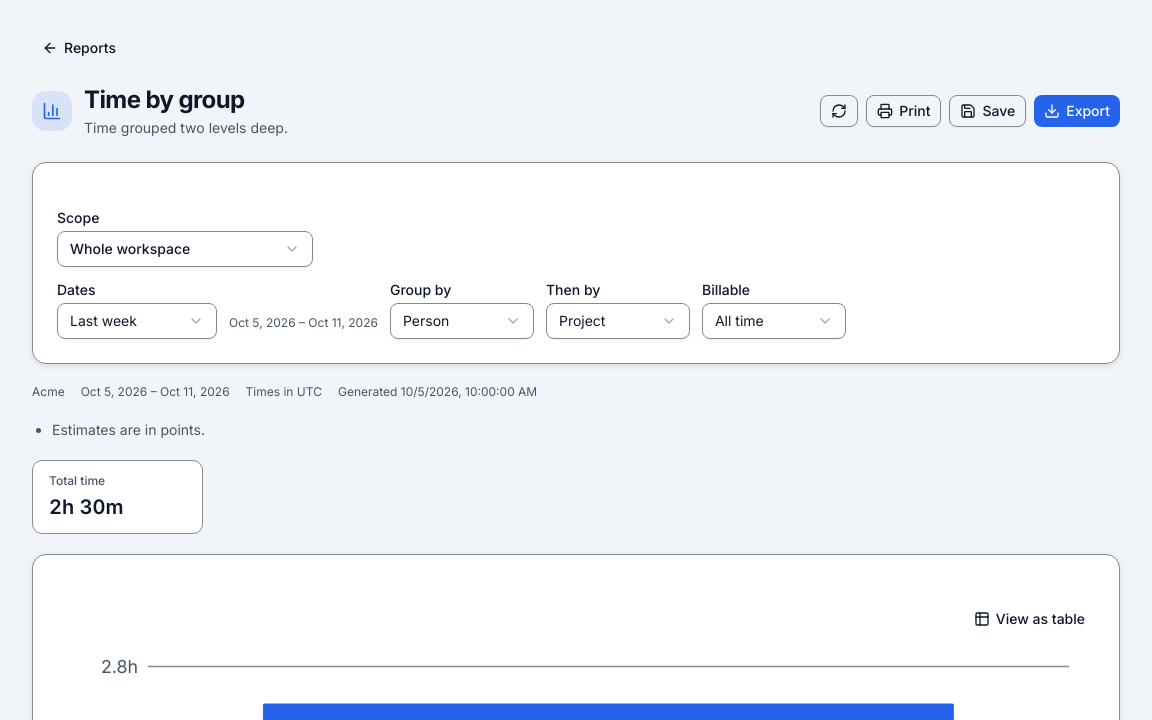
<ReportPage> › saves the report with its parameters, and then offers to schedule it
Click the button "Save": [988, 111] box left=949, top=95, right=1026, bottom=127
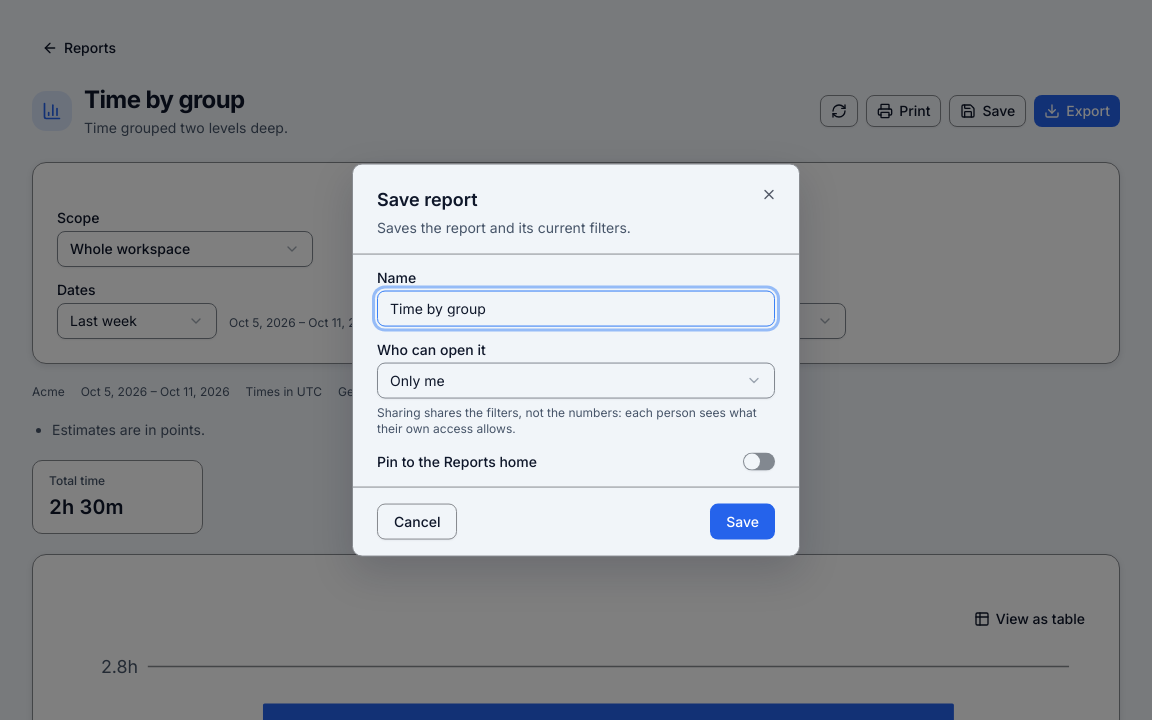
Replace the text in the field labelled "Name" with "Weekly hours": [576, 308] box left=377, top=290, right=775, bottom=326
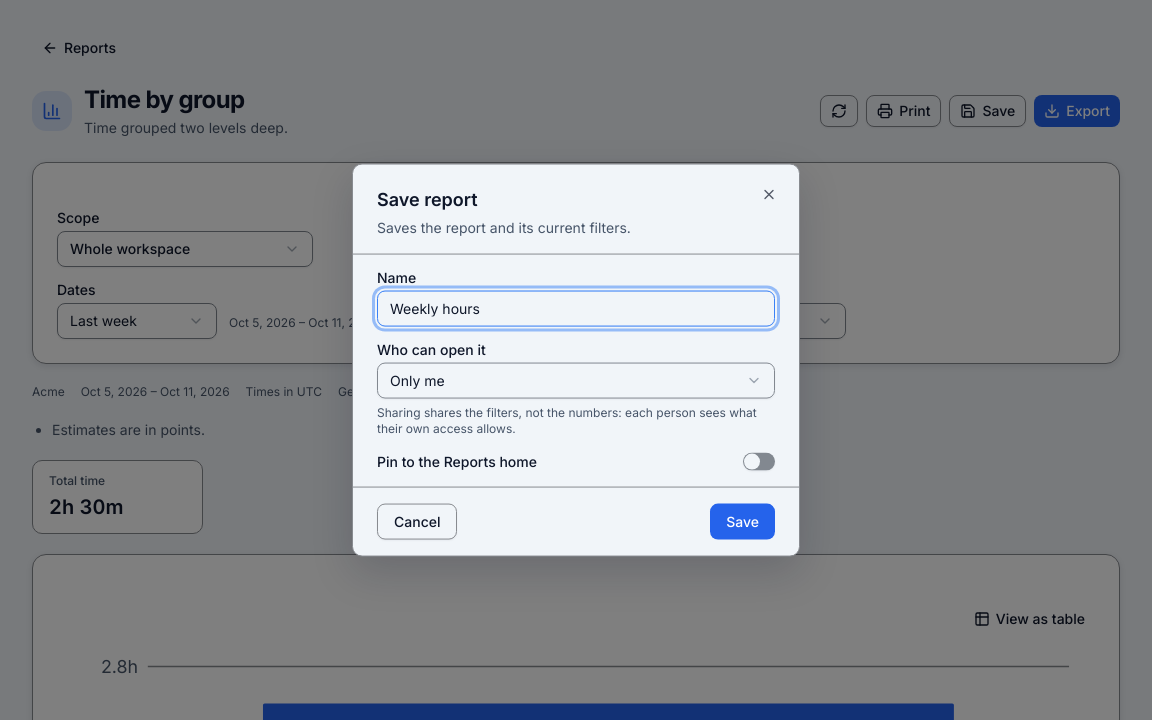
Click the button "Save": [743, 521] box left=710, top=503, right=775, bottom=539
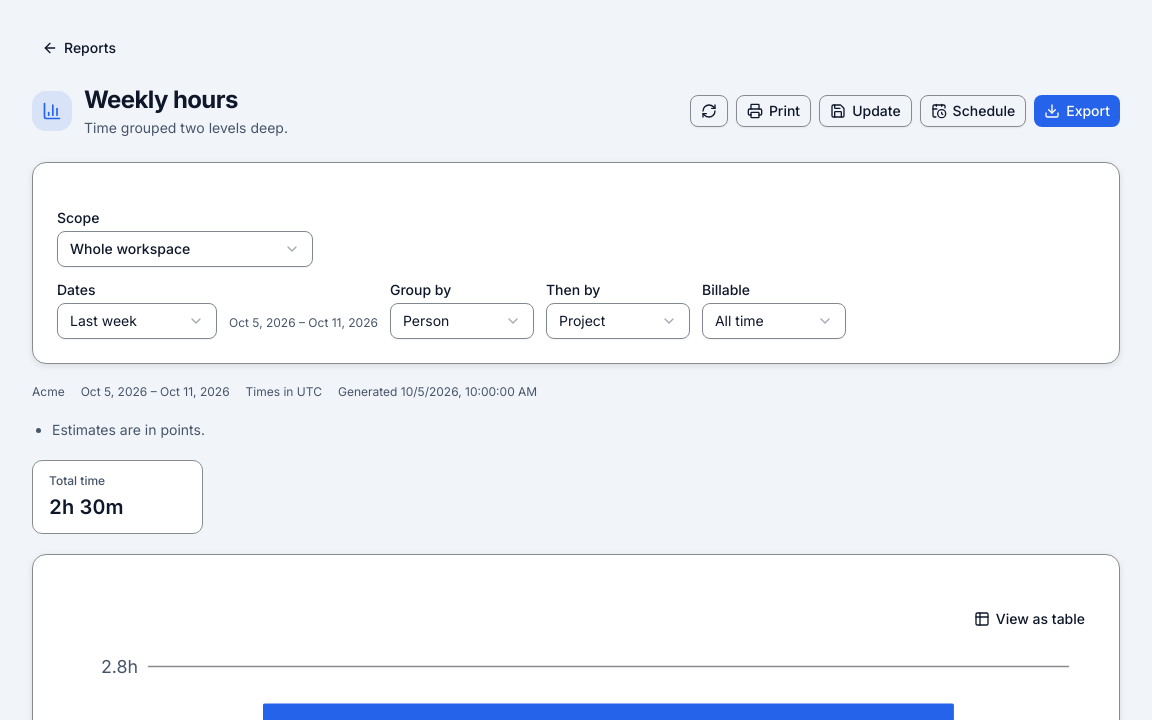
Expected: the button "Schedule" is shown, left=920, top=95, right=1026, bottom=127
Expected: the heading "Weekly hours" is shown, left=84, top=85, right=238, bottom=114
